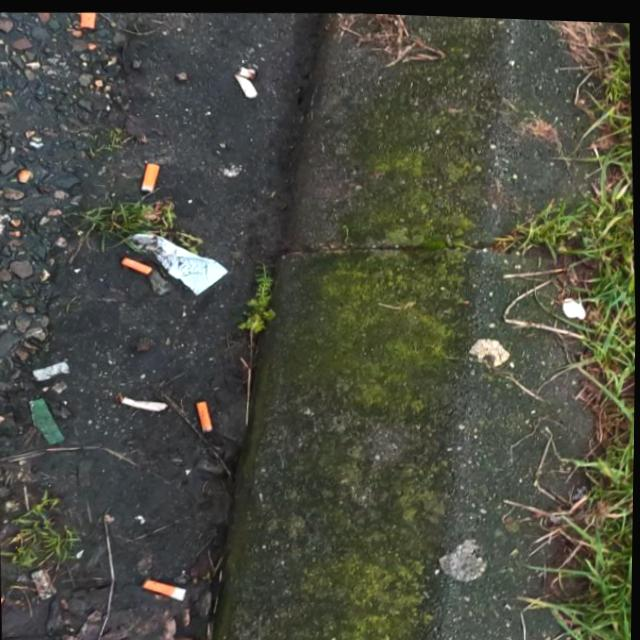Paper: (124, 225, 233, 299)
